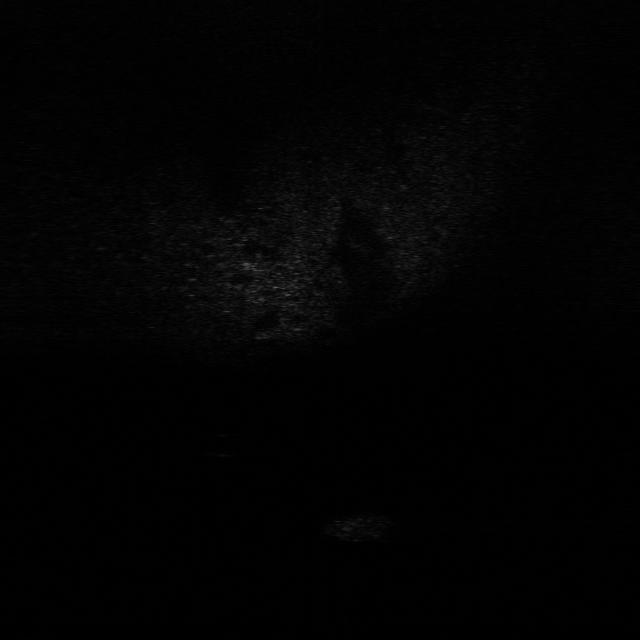ball: (203, 430, 248, 459)
square cage: (318, 500, 402, 547)
